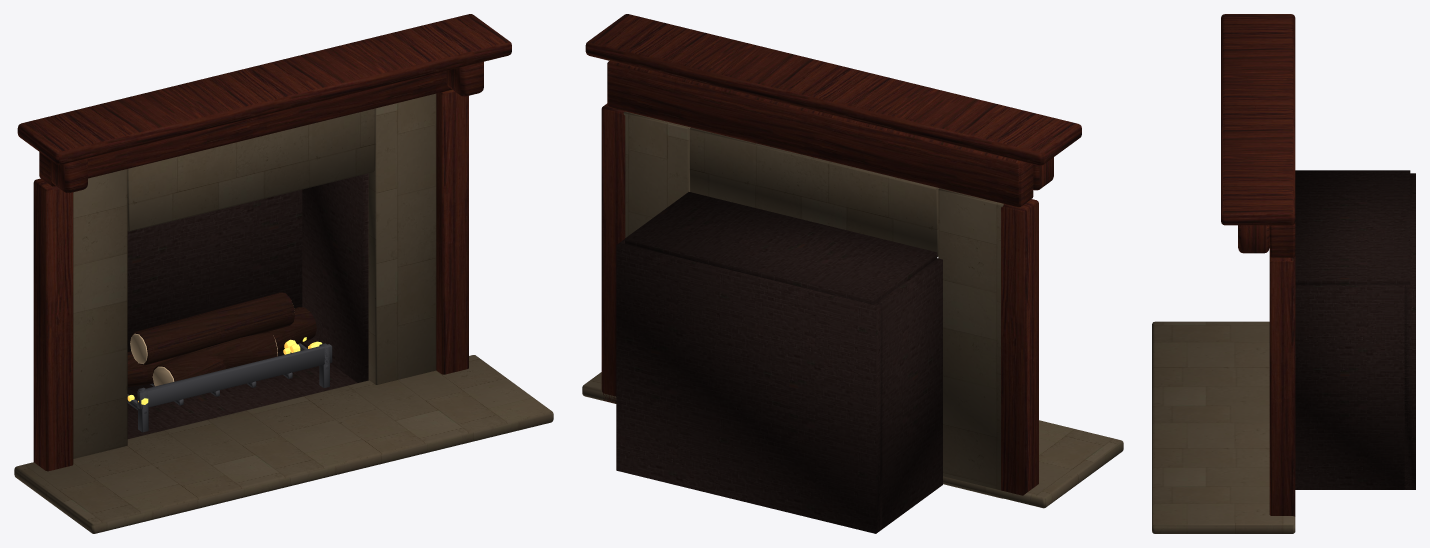
File: fireplace.glb
The picture shows the model from 3 angles, left to right: view 1: azimuth 30°, elevation 25°; view 2: azimuth 150°, elevation 25°; view 3: azimuth 270°, elevation 25°; orthographic projection. The views are drawn at different scales.
Visible parts, largest first — view 1: Surround marble, Mantel wood, Firebox brick, Log bark, Cast iron, Log end; view 2: Firebox brick, Mantel wood, Surround marble; view 3: Firebox brick, Surround marble, Mantel wood.
Boxes of the visible parts, x1,y1,x2,y2 form: Surround marble: (14,93,553,533); Mantel wood: (17,14,511,471); Firebox brick: (127,173,368,438); Log bark: (127,292,316,386); Cast iron: (127,343,332,432); Log end: (130,333,277,386); Firebox brick: (616,192,942,533); Mantel wood: (585,14,1081,495); Surround marble: (582,111,1123,508); Firebox brick: (1295,170,1415,489); Surround marble: (1152,321,1295,533); Mantel wood: (1221,14,1295,516).
Size of the model in its own units: 1.68 by 1.23 by 0.92.
7 materials, 4 textured.
